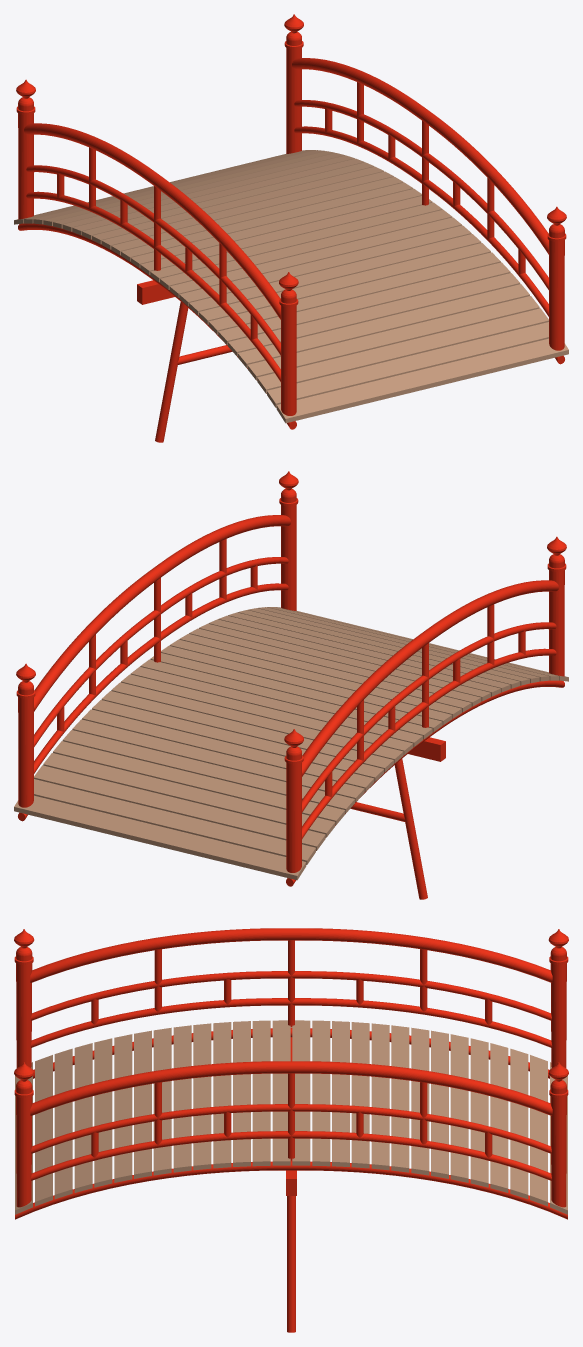
File: Garden_Bridge.fbx
3 renders of one model, top to bottom at view 1: azimuth 30°, elevation 25°; view 2: azimuth 150°, elevation 25°; view 3: azimuth 270°, elevation 25°, orthographic.
Visible parts, largest first — view 1: Cylinder, Cylinder.003, Cylinder.002, Cylinder.007, Cylinder.016, Cube; view 2: Cylinder, Cylinder.003, Cylinder.002, Cylinder.007, Cylinder.016, Cube; view 3: Cylinder, Cylinder.003, Cylinder.002, Cylinder.007, Cylinder.016.
Part boxes in pixels (x1,y1,x2,y2): Cylinder: [14, 150, 568, 429]; Cylinder.003: [24, 58, 548, 381]; Cylinder.002: [16, 14, 566, 415]; Cylinder.007: [57, 82, 525, 339]; Cylinder.016: [155, 302, 188, 442]; Cube: [137, 280, 174, 304]; Cylinder: [14, 607, 568, 886]; Cylinder.003: [34, 515, 558, 838]; Cylinder.002: [16, 471, 566, 872]; Cylinder.007: [57, 539, 525, 796]; Cylinder.016: [394, 759, 427, 899]; Cube: [408, 737, 445, 761]; Cylinder: [15, 1020, 567, 1219]; Cylinder.003: [30, 928, 552, 1180]; Cylinder.002: [14, 929, 568, 1207]; Cylinder.007: [91, 940, 492, 1160]; Cylinder.016: [287, 1196, 295, 1332].
Bounding box in the file's own units: 793 × 666 × 1233.
